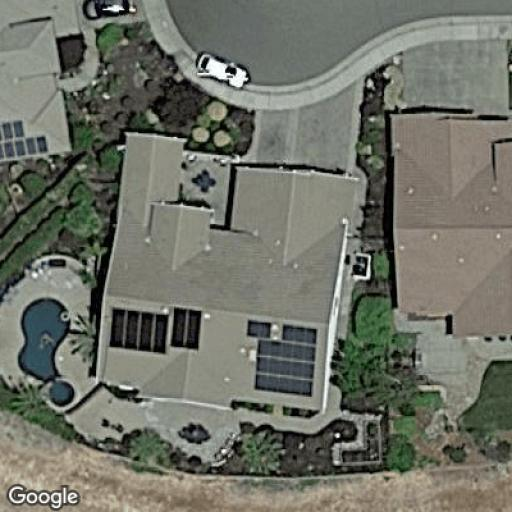solar-panel: (244, 317, 320, 399), (107, 304, 205, 355), (0, 116, 50, 158)
